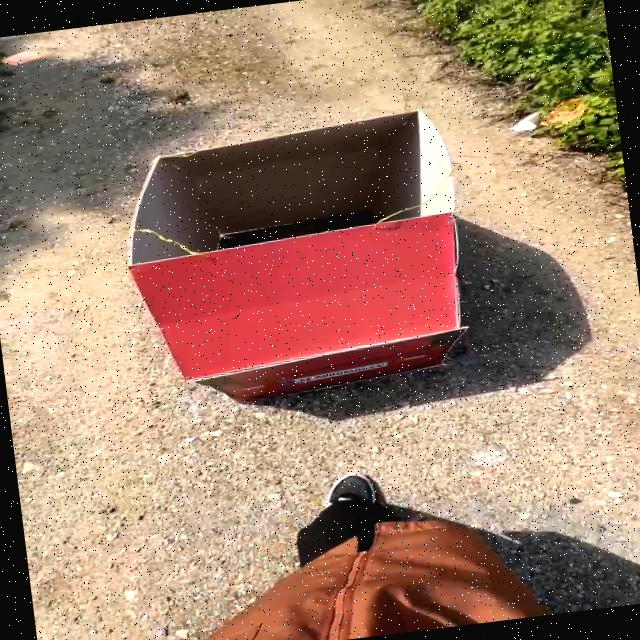red_car: (49, 74, 541, 437)
